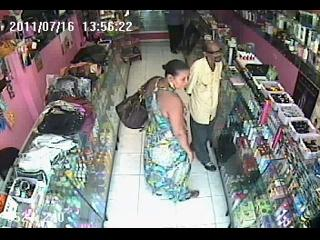Normal: (143, 59, 200, 202), (186, 40, 227, 172), (114, 74, 163, 130)
